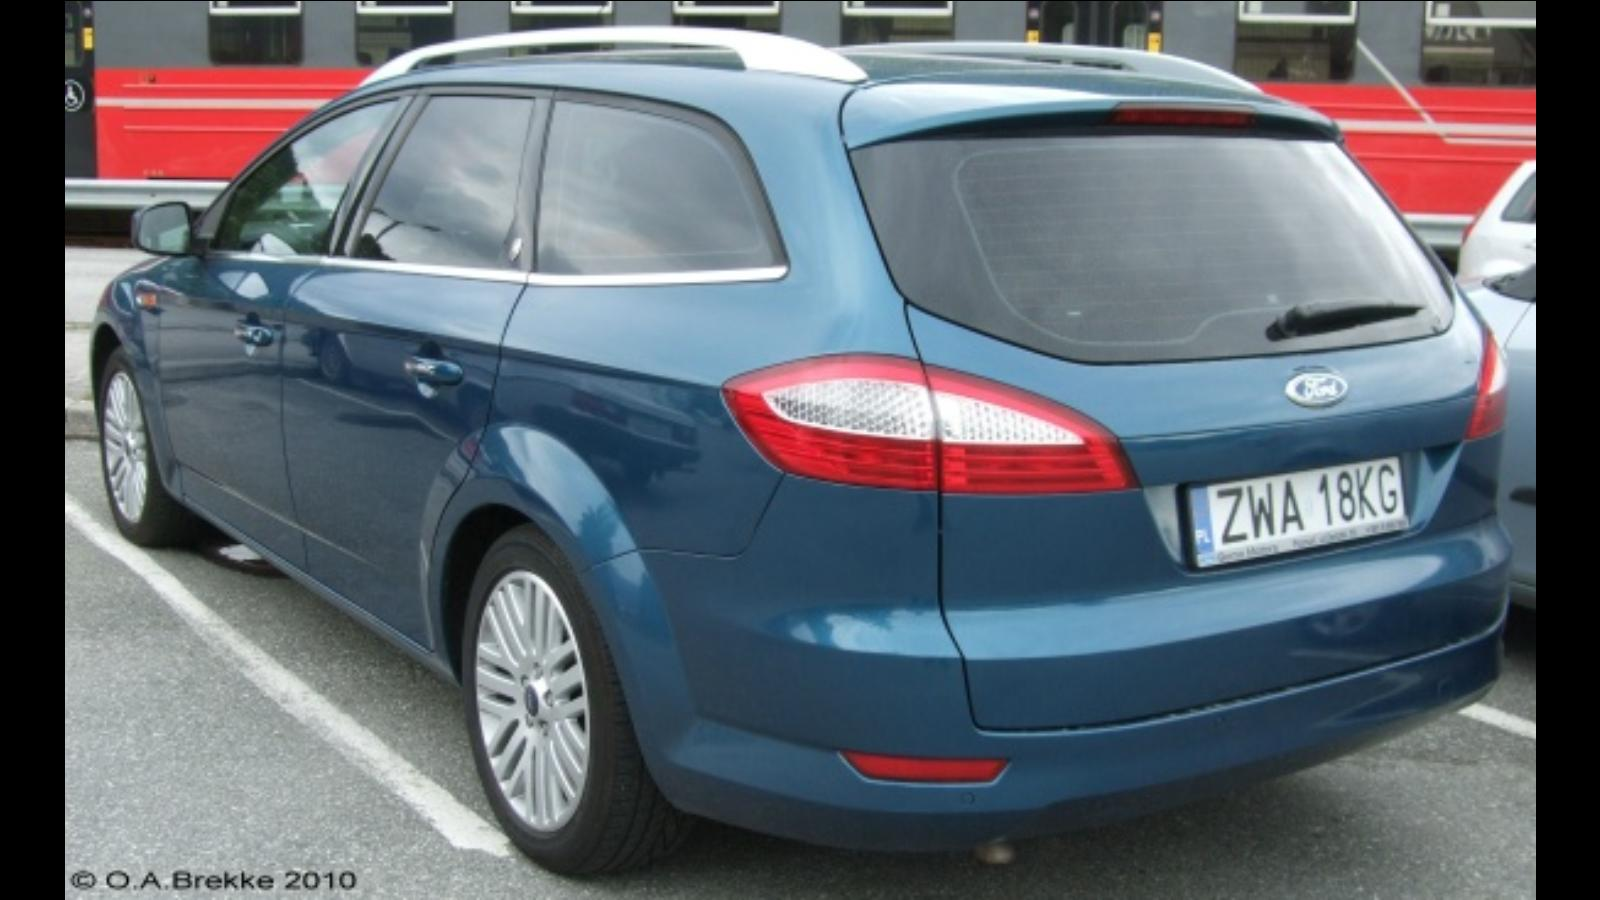plates: (1180, 453, 1412, 571)
